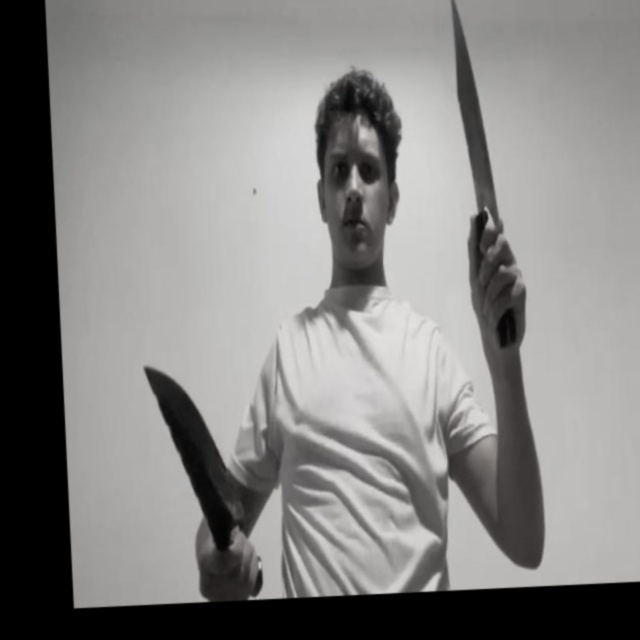Sharp-Object: (143, 358, 247, 529), (446, 0, 500, 225)
